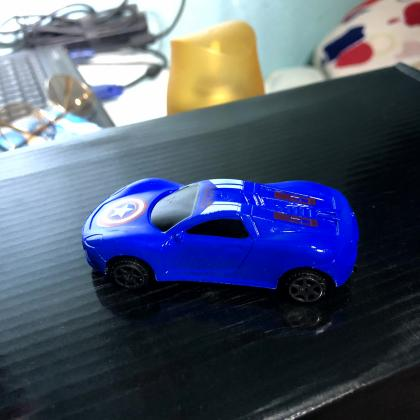Car: (76, 172, 363, 313)
